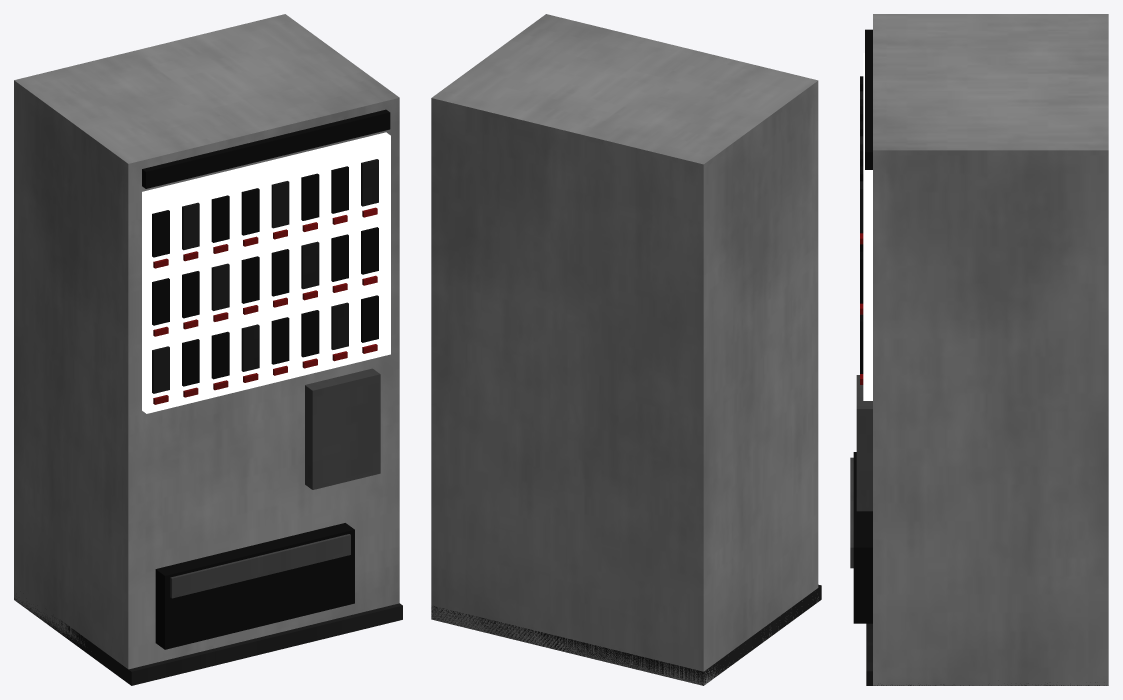
The model's file is vending_machine.glb.
3 renders of one model, left to right at view 1: azimuth 30°, elevation 25°; view 2: azimuth 150°, elevation 25°; view 3: azimuth 270°, elevation 25°, orthographic. The views are drawn at different scales.
Parts seen in each view (by area): view 1: vending_machine; view 2: vending_machine; view 3: vending_machine.
Part boxes in pixels (x1,y1,x2,y2): vending_machine: (14,14,402,685); vending_machine: (431,14,821,685); vending_machine: (850,14,1108,685).
Bounding box in the file's own units: 1 × 1.83 × 0.8.
6 materials, 6 textured.
